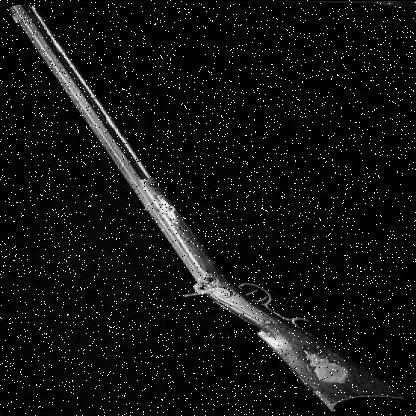rifle: (1, 3, 413, 416)
